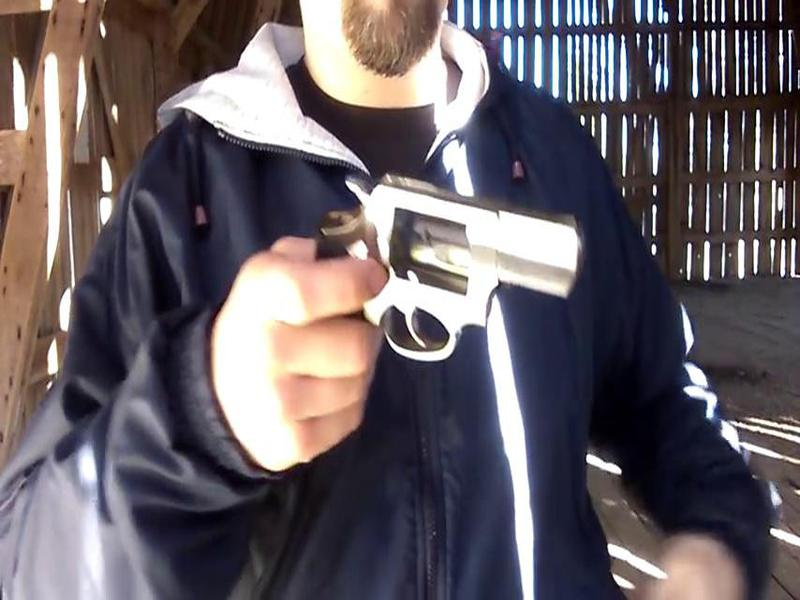Revolver: (291, 153, 607, 406)
